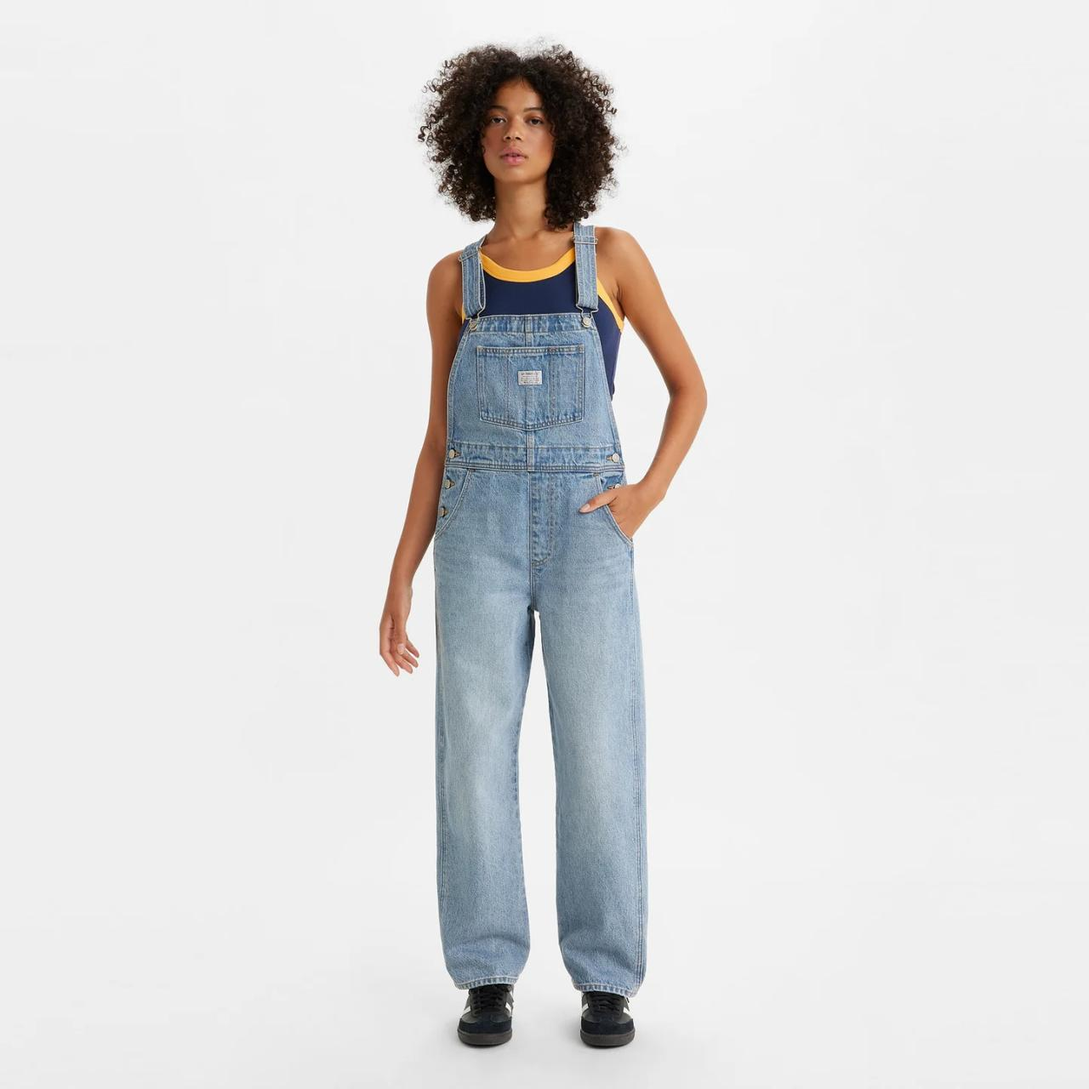NO_Safety_Vest: (430, 236, 647, 510)
Person: (377, 36, 714, 1044)
